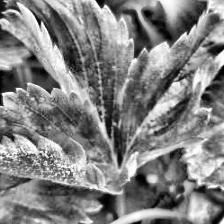Powdery Mildew Leaf: (117, 7, 224, 168), (0, 81, 123, 194)
